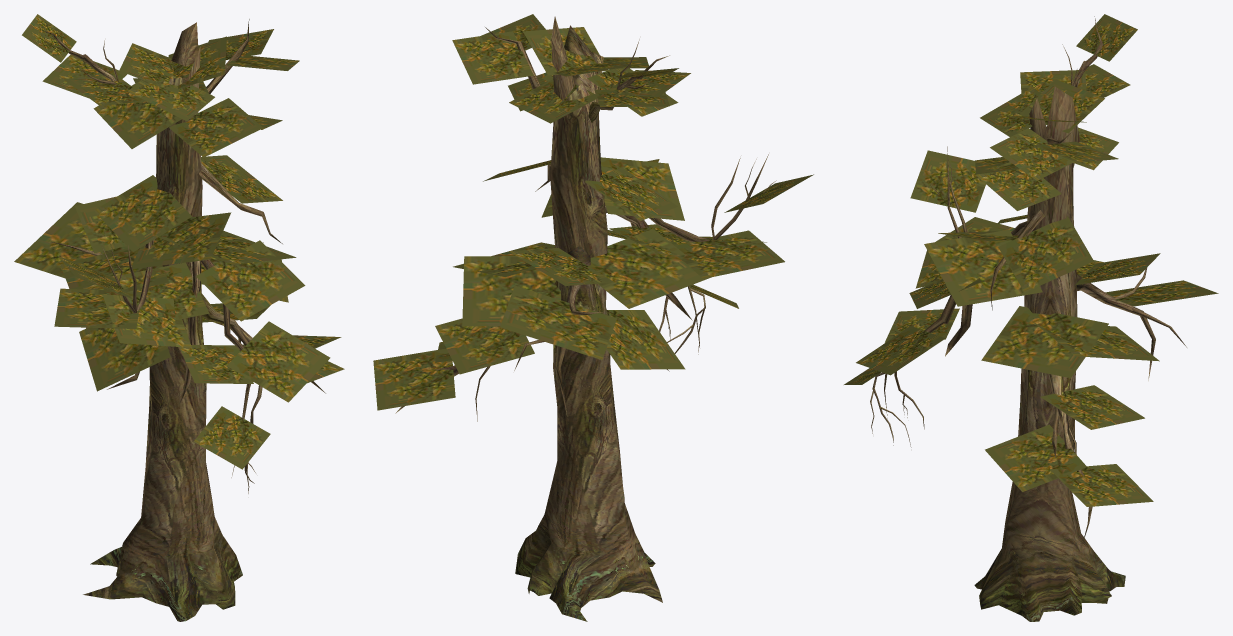
File: S_Tree_Yellow055.FBX
3 renders of one model, left to right at view 1: azimuth 30°, elevation 25°; view 2: azimuth 150°, elevation 25°; view 3: azimuth 270°, elevation 25°, orthographic. The views are drawn at different scales.
Visible parts, largest first — view 1: S_Tree_Yellow055; view 2: S_Tree_Yellow055; view 3: S_Tree_Yellow055.
Boxes of the visible parts, left/top/right/bottom form: S_Tree_Yellow055: left=14, top=14, right=344, bottom=621; S_Tree_Yellow055: left=373, top=14, right=813, bottom=621; S_Tree_Yellow055: left=844, top=14, right=1218, bottom=621.
Size of the model in its own units: 612 by 602 by 945.
